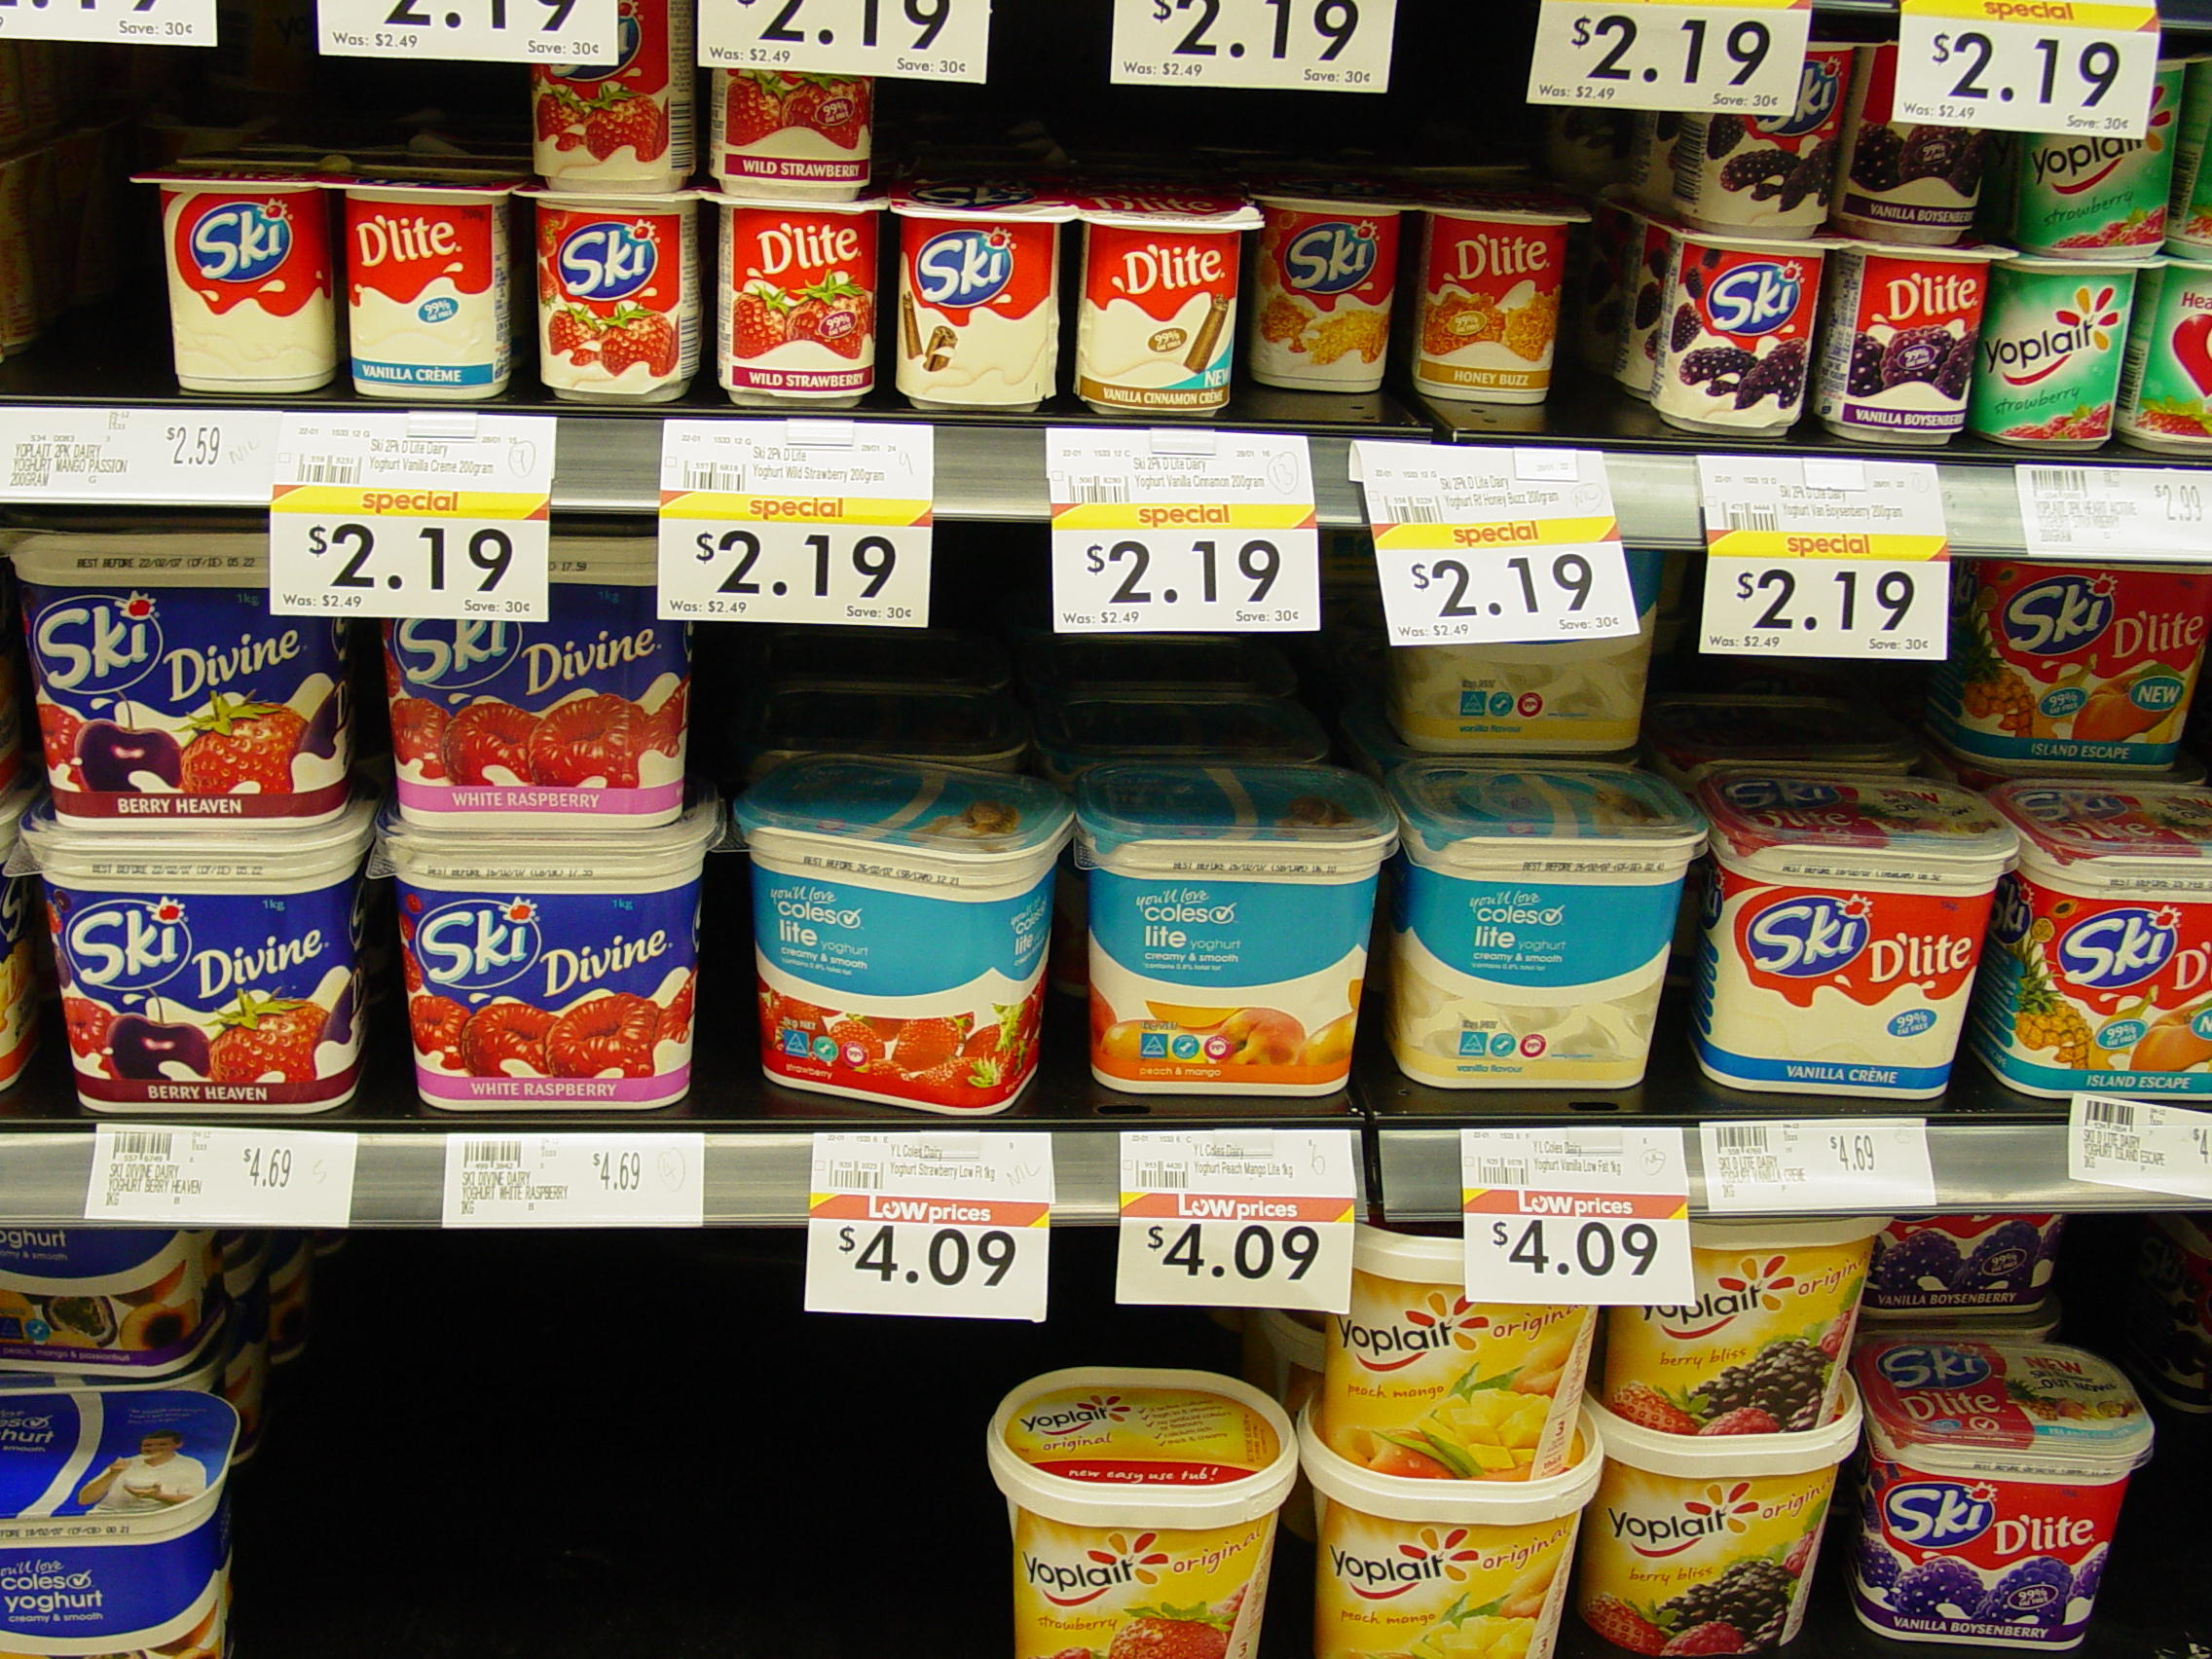Misplacement: (864, 23, 1632, 444), (705, 575, 1057, 1107), (139, 7, 535, 406)
